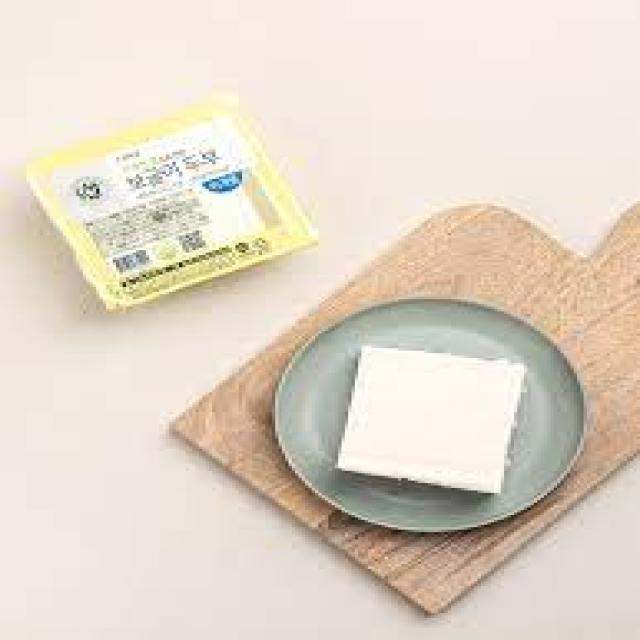tofu: (30, 125, 322, 302), (310, 339, 558, 507)
